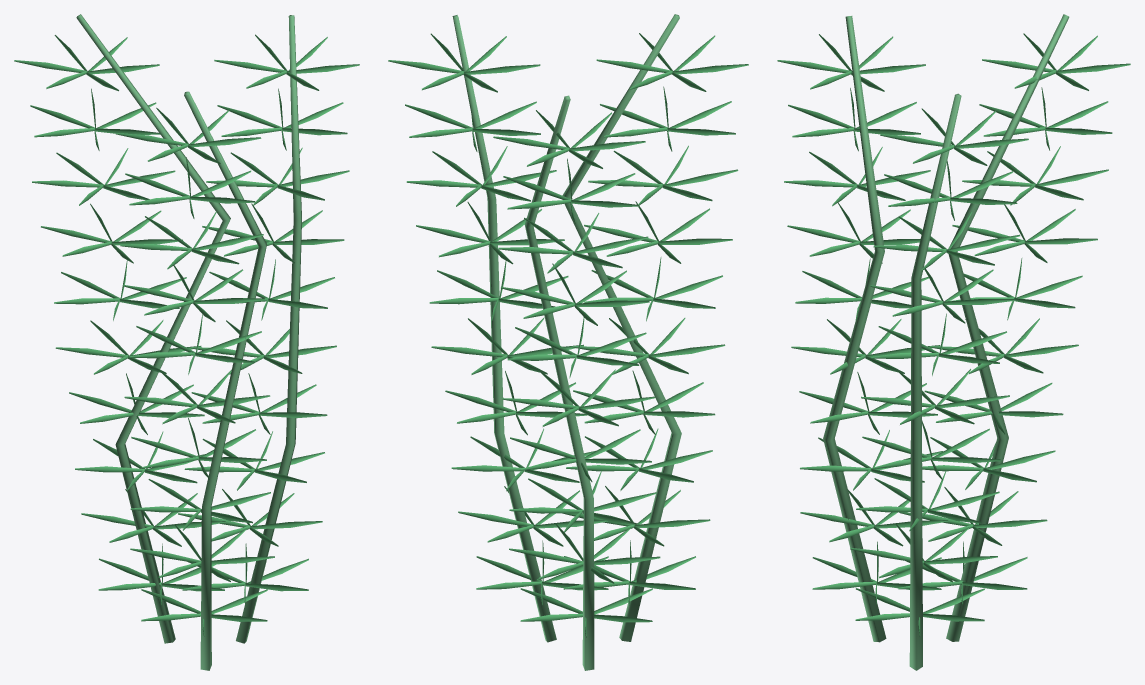
File: aquatic_hornwort.glb
The picture shows the model from 3 angles, left to right: view 1: azimuth 30°, elevation 25°; view 2: azimuth 150°, elevation 25°; view 3: azimuth 270°, elevation 25°; orthographic projection. The views are drawn at different scales.
Visible parts, largest first — view 1: Flora_Hornwort; view 2: Flora_Hornwort; view 3: Flora_Hornwort.
Part boxes in pixels (x1=…): Flora_Hornwort: x1=14, y1=14, x2=359, y2=670; Flora_Hornwort: x1=388, y1=14, x2=748, y2=670; Flora_Hornwort: x1=777, y1=14, x2=1130, y2=670.
Bounding box in the file's own units: 0.3767 × 0.8041 × 0.4223.
